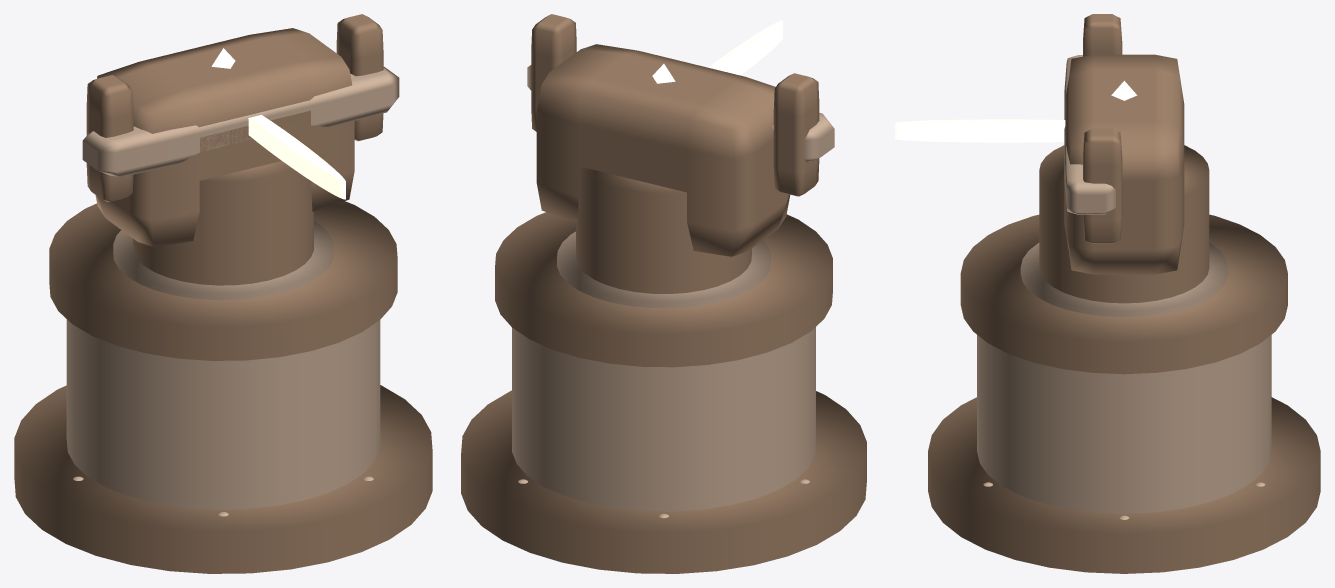
The model's file is ballista_l3.glb.
3 renders of one model, left to right at view 1: azimuth 30°, elevation 25°; view 2: azimuth 150°, elevation 25°; view 3: azimuth 270°, elevation 25°, orthographic. The views are drawn at different scales.
Parts seen in each view (by area): view 1: base, footing, baseCollar, frame, shaft, crossbow, lowerTrim, armL, armR, bolt; view 2: base, frame, footing, baseCollar, shaft, armL, lowerTrim, armR, bolt, crossbow; view 3: base, footing, baseCollar, frame, shaft, lowerTrim, bolt, armR, crossbow, armL.
Part boxes in pixels (left/top/right/bottom): base: left=66, top=319, right=380, bottom=509; footing: left=14, top=385, right=432, bottom=573; baseCollar: left=49, top=201, right=397, bottom=360; frame: left=95, top=28, right=354, bottom=246; shaft: left=133, top=161, right=313, bottom=285; crossbow: left=82, top=67, right=399, bottom=177; lowerTrim: left=113, top=221, right=333, bottom=300; armL: left=86, top=75, right=133, bottom=202; armR: left=336, top=14, right=383, bottom=141; bolt: left=248, top=115, right=345, bottom=199; base: left=512, top=327, right=815, bottom=511; frame: left=536, top=44, right=790, bottom=256; footing: left=461, top=390, right=866, bottom=573; baseCollar: left=495, top=212, right=832, bottom=367; shaft: left=576, top=166, right=751, bottom=293; armL: left=773, top=73, right=819, bottom=196; lowerTrim: left=557, top=231, right=770, bottom=308; armR: left=531, top=14, right=576, bottom=131; bolt: left=708, top=20, right=782, bottom=75; crossbow: left=527, top=65, right=834, bottom=161; base: left=977, top=335, right=1271, bottom=513; footing: left=928, top=397, right=1320, bottom=573; baseCollar: left=960, top=214, right=1287, bottom=374; frame: left=1064, top=54, right=1184, bottom=274; shaft: left=1039, top=145, right=1209, bottom=303; lowerTrim: left=1020, top=242, right=1227, bottom=317; bolt: left=895, top=119, right=1065, bottom=142; armR: left=1083, top=128, right=1122, bottom=243; crossbow: left=1064, top=55, right=1115, bottom=214; armL: left=1083, top=14, right=1122, bottom=56.
Size of the model in its own units: 1.8 by 2.1 by 1.95.
